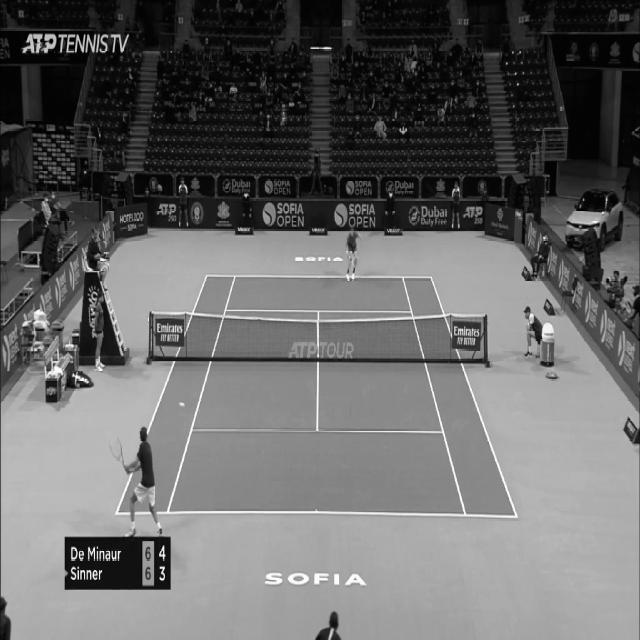tennis-court: (115, 275, 518, 518)
